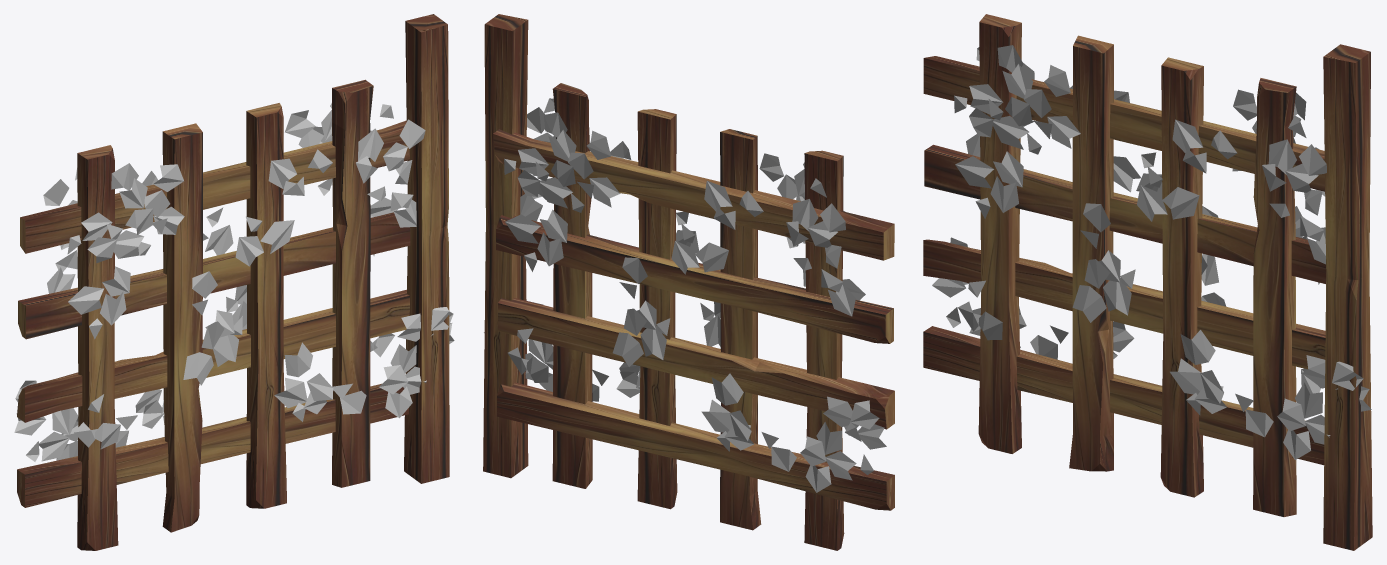
File: Fence.fbx
3 renders of one model, left to right at view 1: azimuth 30°, elevation 25°; view 2: azimuth 150°, elevation 25°; view 3: azimuth 330°, elevation 25°, orthographic. The views are drawn at different scales.
Visible parts, largest first — view 1: SM_Prop_Gazebo_Wall_01, SM_Prop_Gazebo_Wall_01_Ivy; view 2: SM_Prop_Gazebo_Wall_01, SM_Prop_Gazebo_Wall_01_Ivy; view 3: SM_Prop_Gazebo_Wall_01, SM_Prop_Gazebo_Wall_01_Ivy.
Part boxes in pixels (x1,y1,x2,y2): SM_Prop_Gazebo_Wall_01: (17, 14, 449, 550); SM_Prop_Gazebo_Wall_01_Ivy: (14, 103, 454, 461); SM_Prop_Gazebo_Wall_01: (483, 14, 894, 550); SM_Prop_Gazebo_Wall_01_Ivy: (484, 98, 886, 492); SM_Prop_Gazebo_Wall_01: (923, 14, 1372, 550); SM_Prop_Gazebo_Wall_01_Ivy: (932, 45, 1371, 459).
Size of the model in its own units: 302 by 307 by 43.53.
